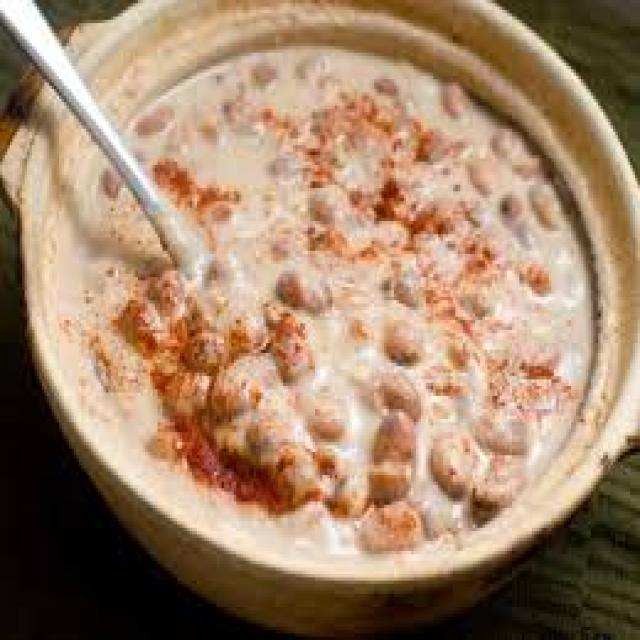fool: (88, 46, 596, 546)
